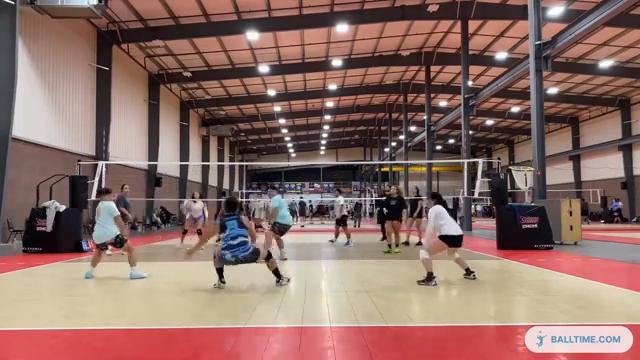Dig: (182, 193, 293, 287)
Player: (85, 188, 146, 278), (417, 192, 476, 285), (265, 187, 292, 259), (178, 192, 207, 247), (383, 185, 406, 252), (329, 188, 352, 246), (403, 186, 423, 245), (250, 195, 267, 229), (298, 197, 306, 227)
